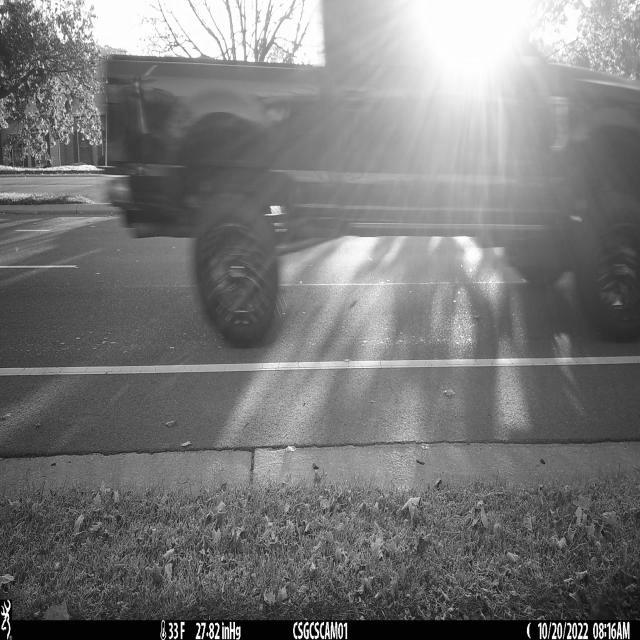Pickup: (98, 0, 640, 350)
